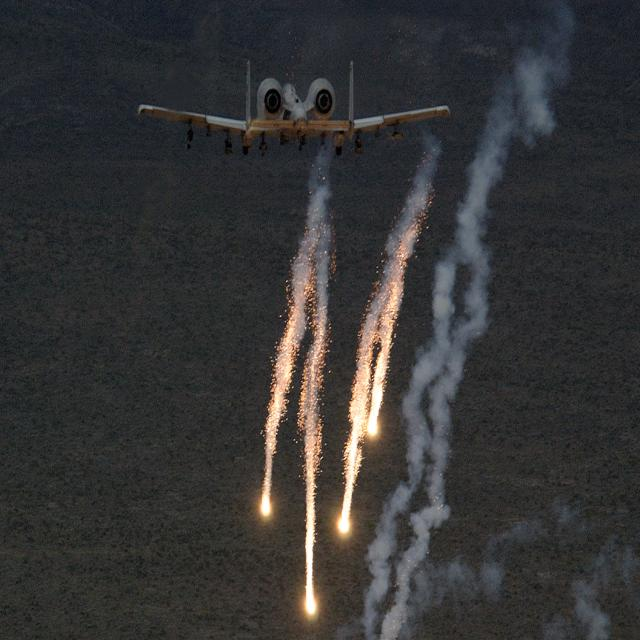MIL_Plane: (138, 60, 451, 158)
